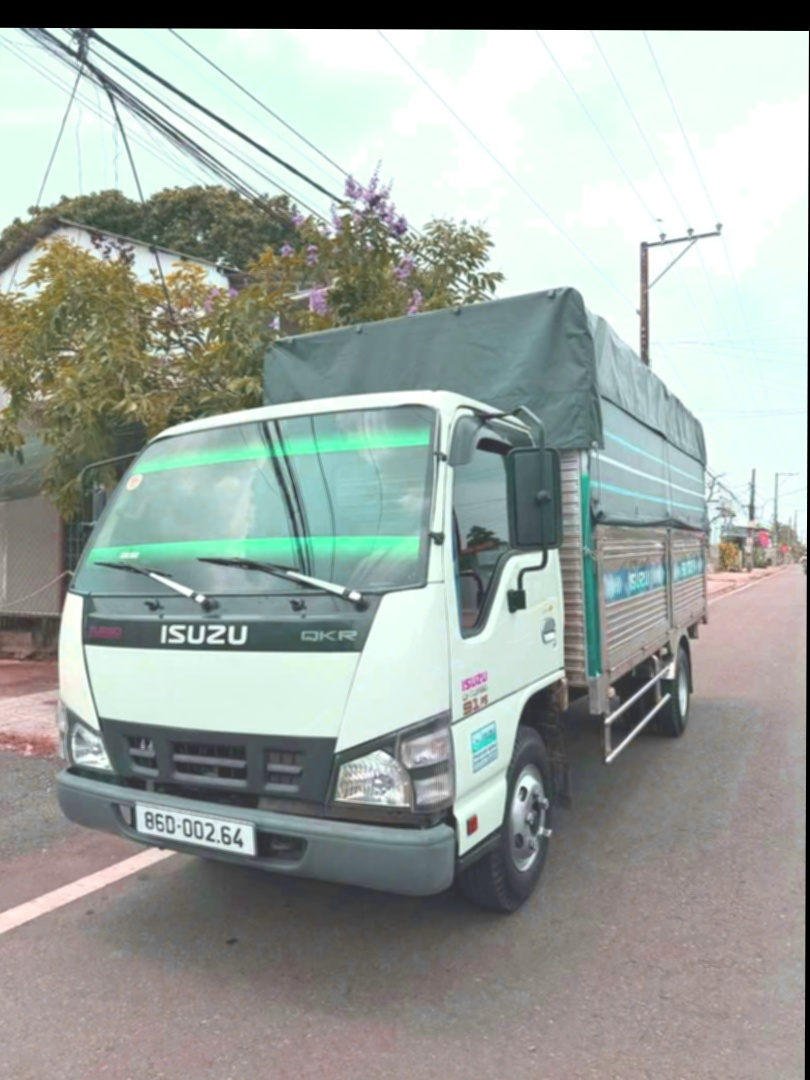Bien-so: (142, 772, 261, 834)
